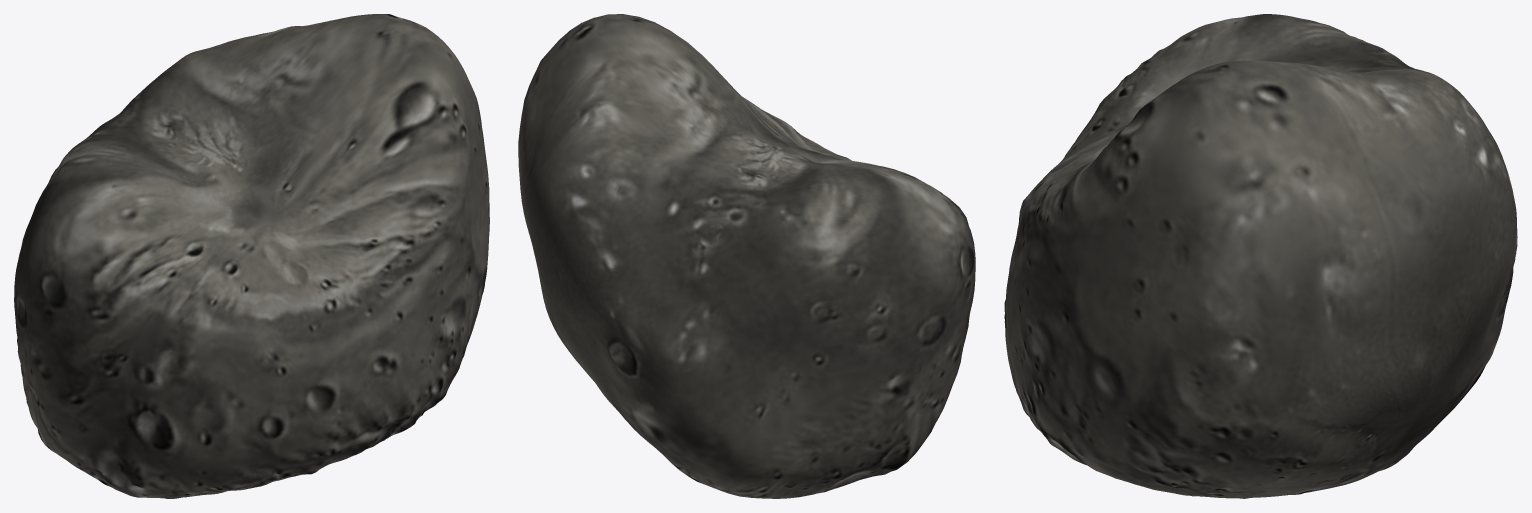
The model's file is deimos.glb.
3 renders of one model, left to right at view 1: azimuth 30°, elevation 25°; view 2: azimuth 150°, elevation 25°; view 3: azimuth 270°, elevation 25°, orthographic. The views are drawn at different scales.
Visible parts, largest first — view 1: node_id5; view 2: node_id5; view 3: node_id5.
Part boxes in pixels (x1,y1,x2,y2): node_id5: (14,14,489,498); node_id5: (518,14,975,498); node_id5: (1004,14,1517,498).
Size of the model in its own units: 0.3439 by 0.3091 by 0.2868.
1 material, 1 textured.
